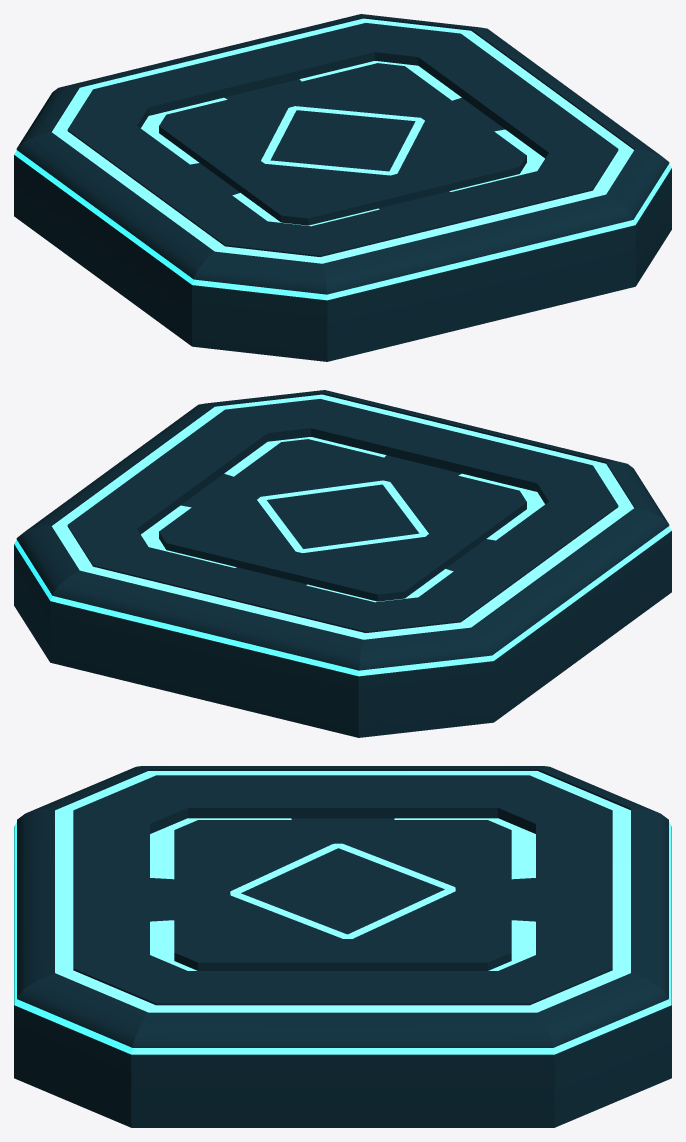
Rendered from Portal.fbx.
The picture shows the model from 3 angles, top to bottom: view 1: azimuth 30°, elevation 25°; view 2: azimuth 150°, elevation 25°; view 3: azimuth 270°, elevation 25°; orthographic projection. The views are drawn at different scales.
Parts seen in each view (by area): view 1: Cube; view 2: Cube; view 3: Cube.
Boxes of the visible parts, x1,y1,x2,y2 form: Cube: [14, 14, 671, 361]; Cube: [14, 390, 671, 737]; Cube: [14, 766, 671, 1127].
Bounding box in the file's own units: 200 × 33.34 × 200.
